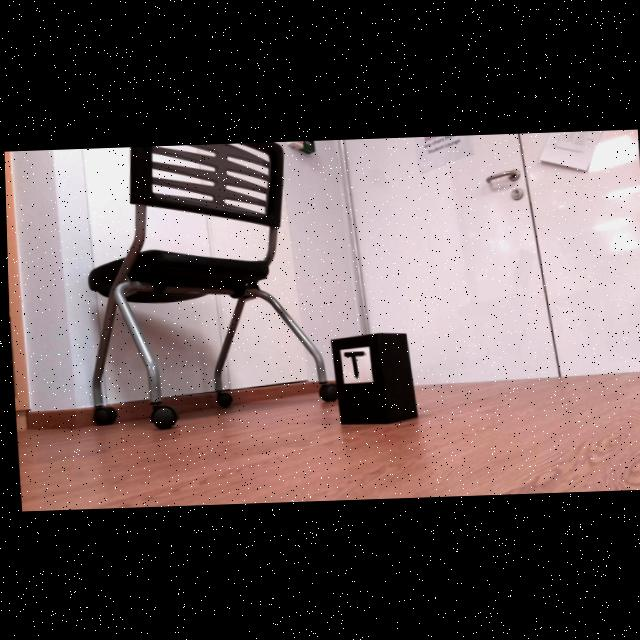T: (342, 352, 363, 377)
